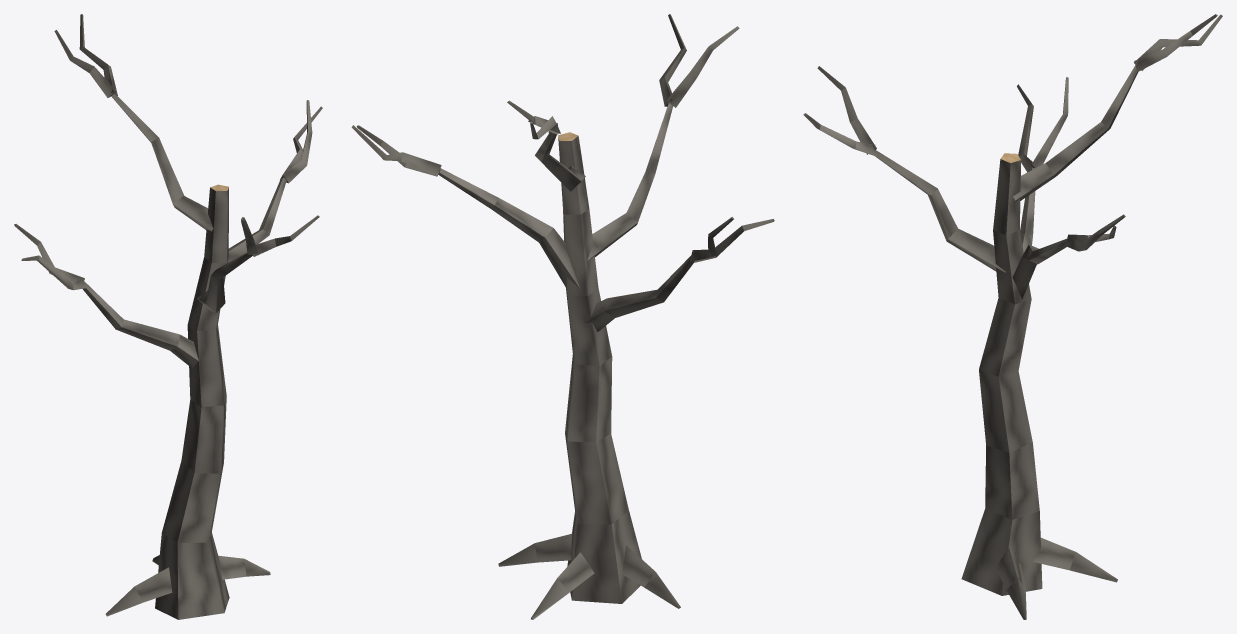
Rendered from SM_Tree_Dead_Large01_LOD1.fbx.
3 renders of one model, left to right at view 1: azimuth 30°, elevation 25°; view 2: azimuth 150°, elevation 25°; view 3: azimuth 270°, elevation 25°, orthographic. The views are drawn at different scales.
Parts seen in each view (by area): view 1: SM_Tree_Dead_Large01_LOD1; view 2: SM_Tree_Dead_Large01_LOD1; view 3: SM_Tree_Dead_Large01_LOD1.
Boxes of the visible parts, x1=… form: SM_Tree_Dead_Large01_LOD1: x1=14, y1=14, x2=322, y2=619; SM_Tree_Dead_Large01_LOD1: x1=351, y1=14, x2=774, y2=619; SM_Tree_Dead_Large01_LOD1: x1=803, y1=14, x2=1222, y2=619.
Bounding box in the file's own units: 13.65 × 19.87 × 13.44.
Materials: 1 (1 with a texture image).
